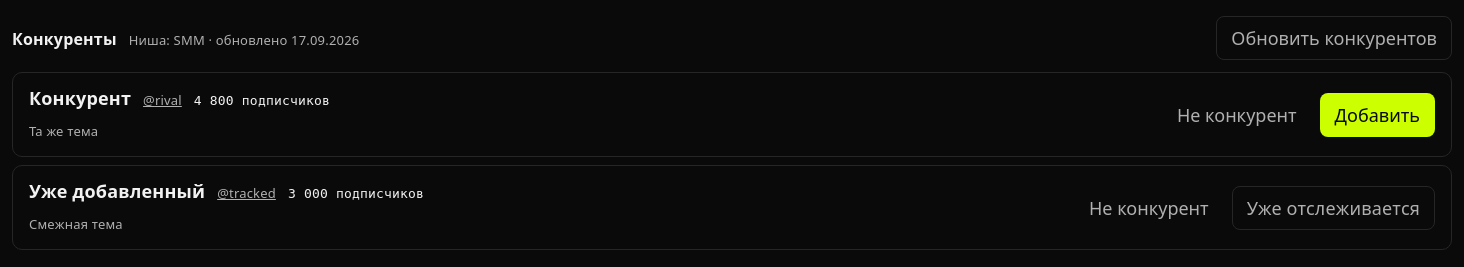
Test: CompetitorsSection › «Не конкурент» › hides the channel at once and offers to undo
Click the button "Не конкурент" in the row of "rival" at (1237,115), box x1=1162 y1=93 x2=1312 y2=137
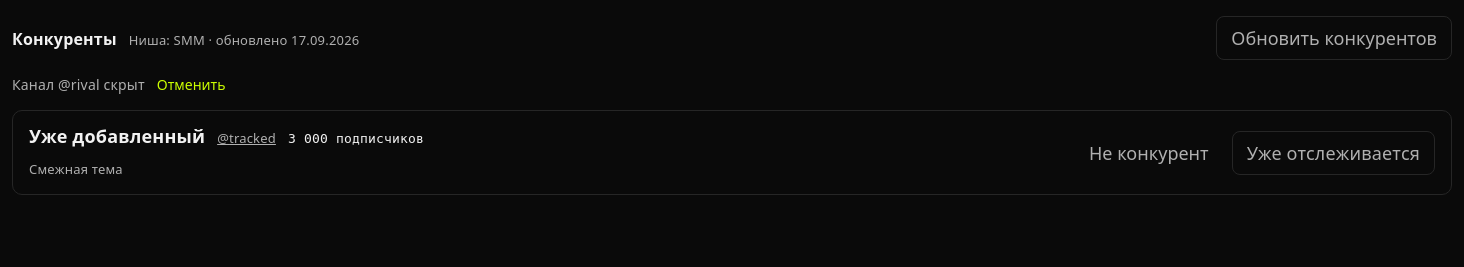
Now the text "Канал @rival скрыт Отменить" is shown, box x1=12 y1=72 x2=226 y2=98
Now the button "Отменить" is shown, box x1=157 y1=72 x2=226 y2=98
